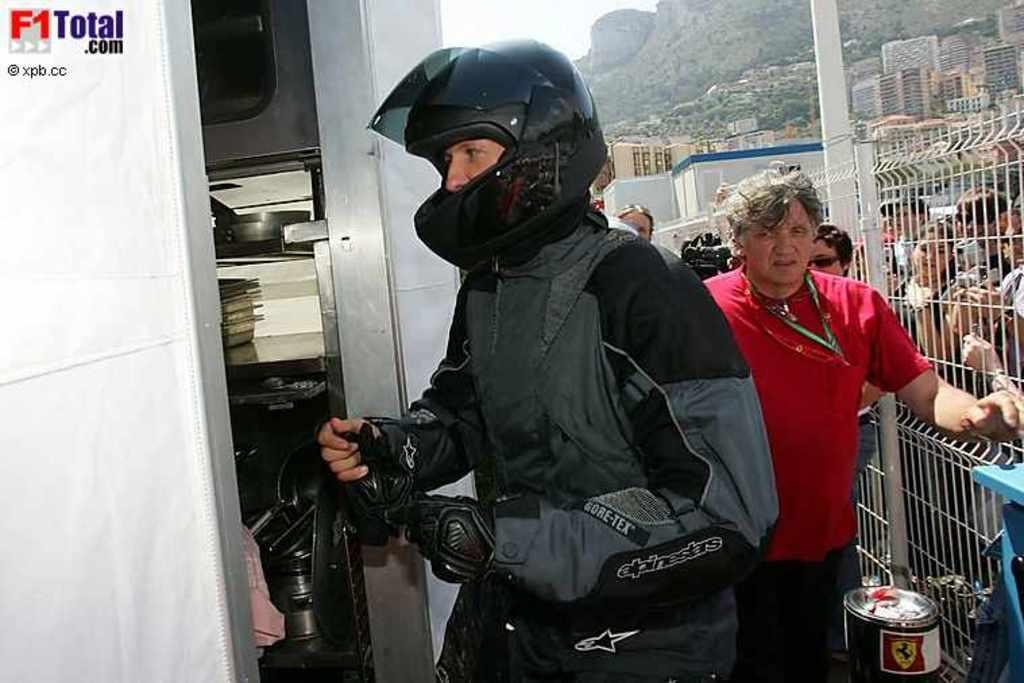helmet: (369, 38, 608, 272)
nohelmet: (725, 167, 825, 291), (911, 219, 957, 280)
